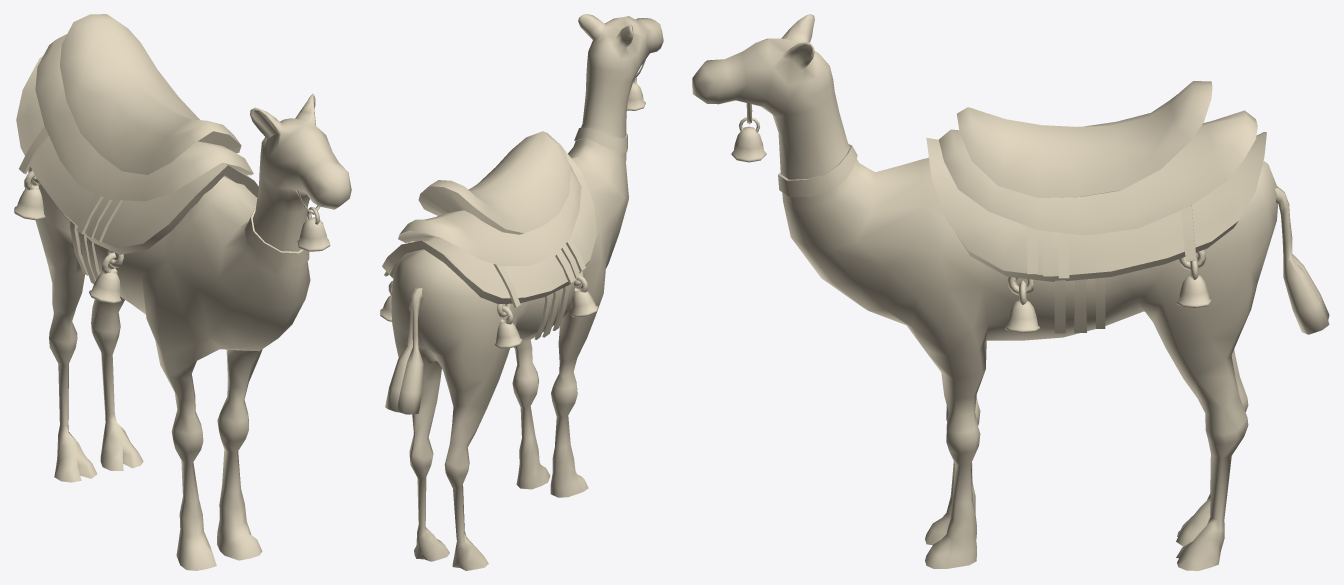
The picture shows the model from 3 angles, left to right: view 1: azimuth 30°, elevation 25°; view 2: azimuth 150°, elevation 25°; view 3: azimuth 270°, elevation 25°; orthographic projection. The views are drawn at different scales.
Visible parts, largest first — view 1: luotuo; view 2: luotuo; view 3: luotuo.
Part boxes in pixels (x1,y1,x2,y2): luotuo: (14, 14, 351, 570); luotuo: (380, 14, 663, 570); luotuo: (692, 14, 1329, 570).
Size of the model in its own units: 33.02 by 87.54 by 96.94.
